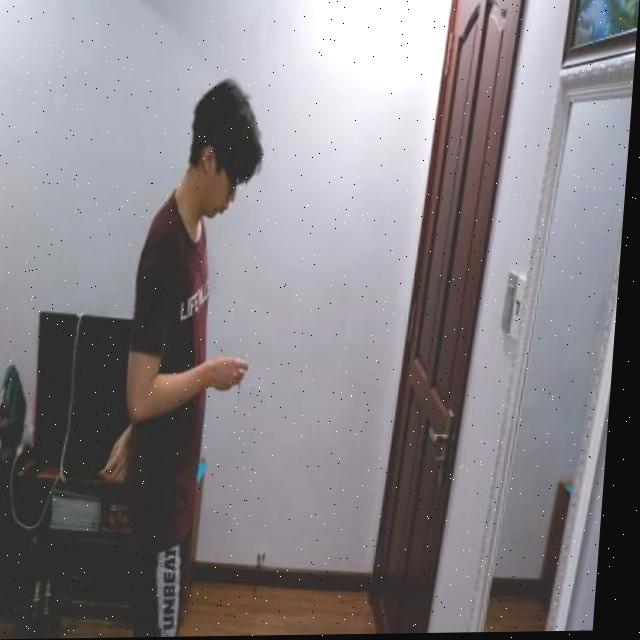cigarette: (241, 380, 249, 410)
